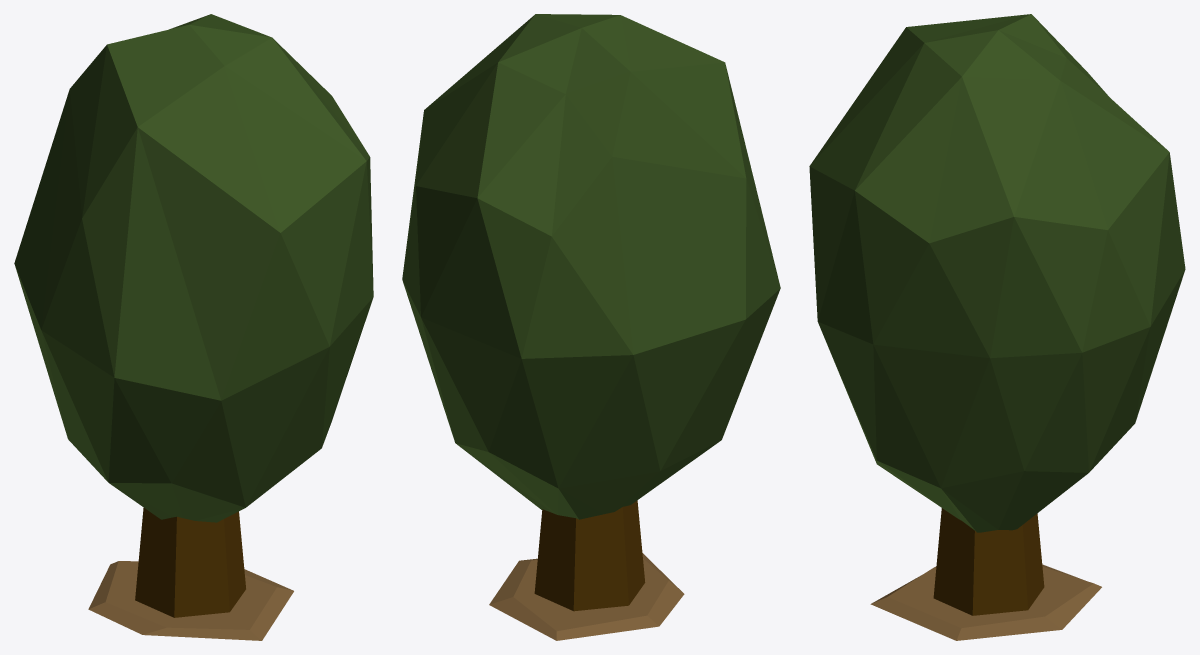
File: tree_2.fbx
The picture shows the model from 3 angles, left to right: view 1: azimuth 30°, elevation 25°; view 2: azimuth 150°, elevation 25°; view 3: azimuth 270°, elevation 25°; orthographic projection.
Parts seen in each view (by area): view 1: Icosphere; view 2: Icosphere; view 3: Icosphere.
Part boxes in pixels (x1,y1,x2,y2): Icosphere: [14, 14, 373, 640]; Icosphere: [402, 14, 780, 640]; Icosphere: [809, 14, 1185, 640].
Size of the model in its own units: 57.88 by 103 by 61.54.
